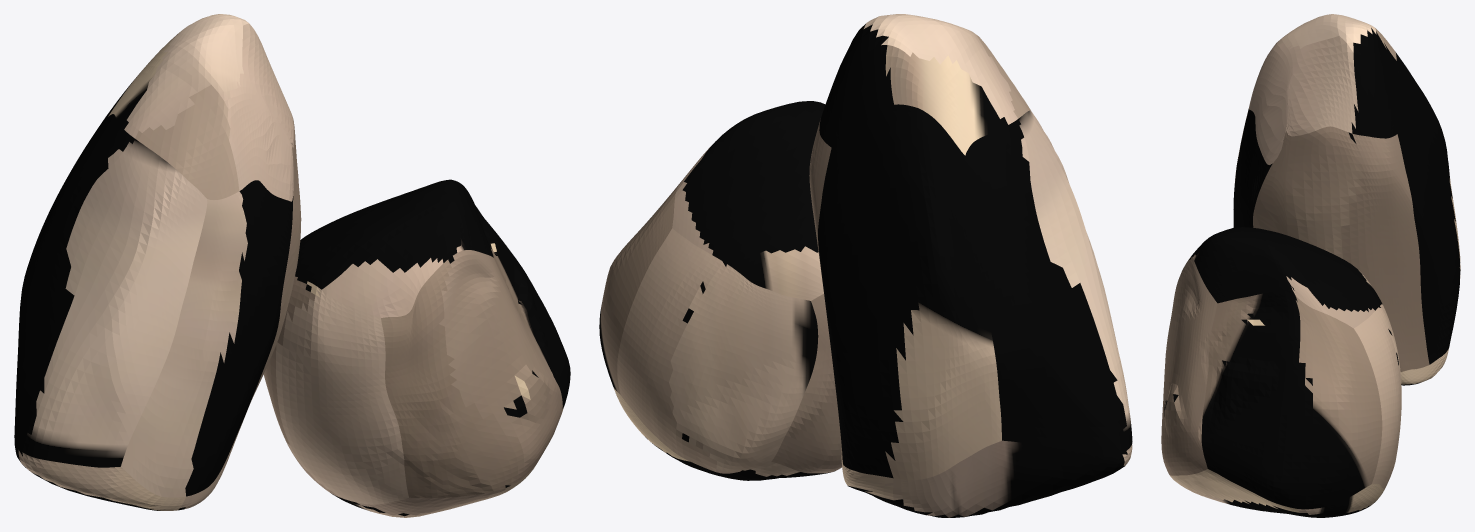
Rendered from Big stone.004.fbx.
The picture shows the model from 3 angles, left to right: view 1: azimuth 30°, elevation 25°; view 2: azimuth 150°, elevation 25°; view 3: azimuth 270°, elevation 25°; orthographic projection. The views are drawn at different scales.
Visible parts, largest first — view 1: Big stone.004_Baked; view 2: Big stone.004_Baked; view 3: Big stone.004_Baked.
Boxes of the visible parts, left/top/right/bottom form: Big stone.004_Baked: left=14, top=14, right=570, bottom=517; Big stone.004_Baked: left=599, top=14, right=1132, bottom=517; Big stone.004_Baked: left=1161, top=14, right=1460, bottom=517.
Bounding box in the file's own units: 40.44 × 36.29 × 23.73.
